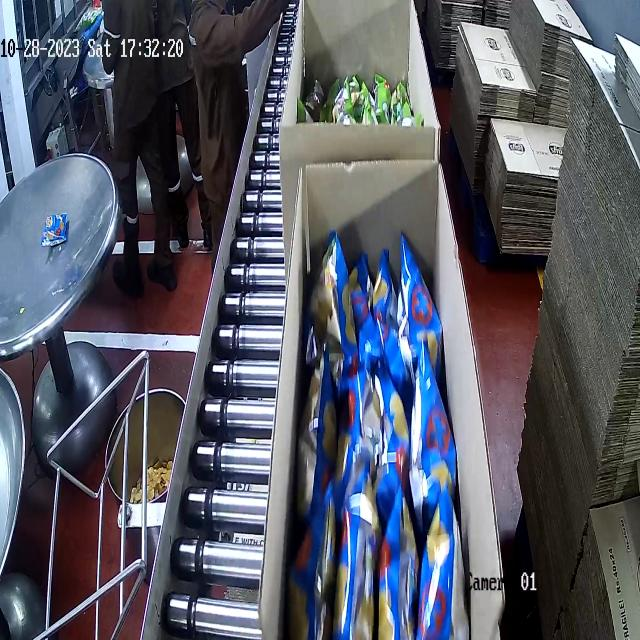PAPRIKA: (290, 244, 460, 640)
YOGURT_HERB: (300, 51, 424, 126)
